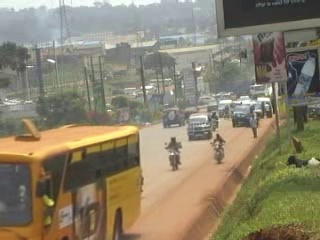Car: (161, 105, 186, 128), (183, 104, 197, 119), (204, 100, 220, 112)
Motorcycle: (161, 134, 184, 170), (208, 131, 228, 163), (209, 110, 220, 133), (222, 104, 230, 121)
